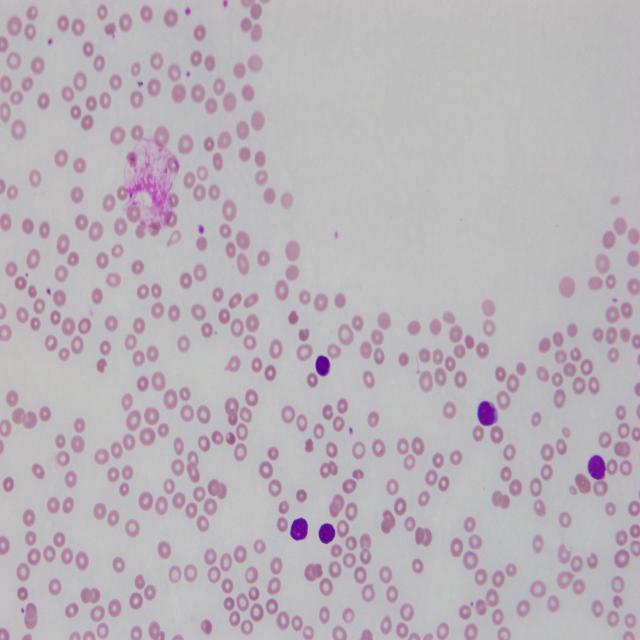cell: (478, 402, 498, 425), (588, 455, 605, 480), (290, 518, 308, 540), (315, 355, 330, 377), (319, 523, 335, 543)
